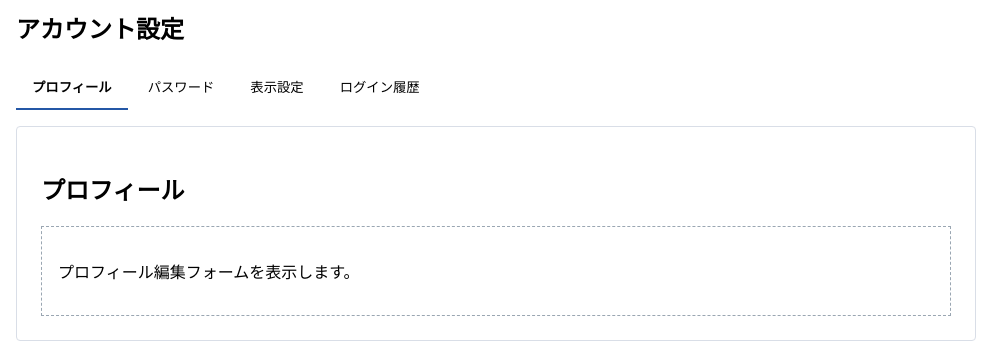
SettingsPage › プロフィール編集とパスワード変更のフォーム領域を表示する
Expected: the heading "アカウント設定" is shown, [16,17,184,43]
Expected: the tab "プロフィール" is shown, [16,65,128,110]
Click the tab "パスワード".
click(181, 87)  # box [132,65,230,110]
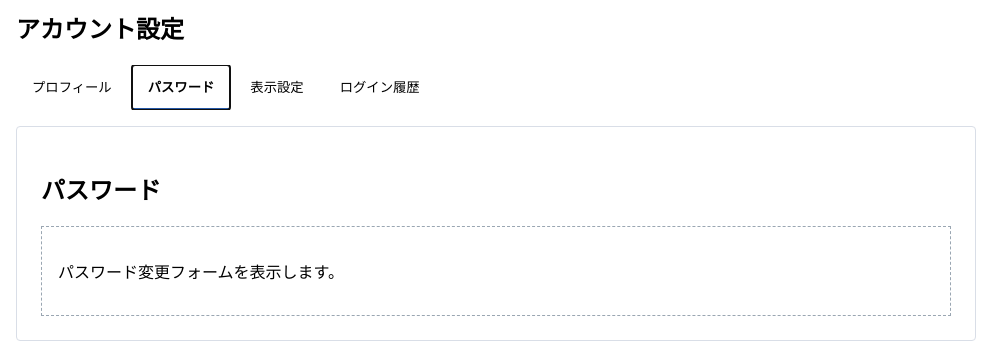
Expected: the form "パスワード変更フォーム" is shown, [41,226,951,316]
